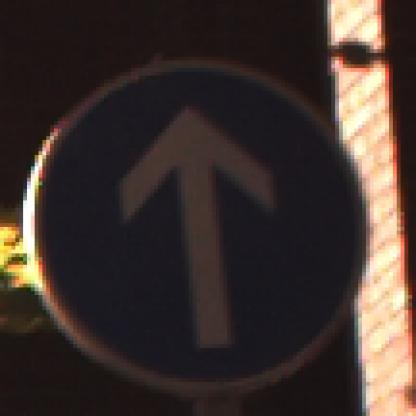AheadOnly: (40, 39, 383, 383)
